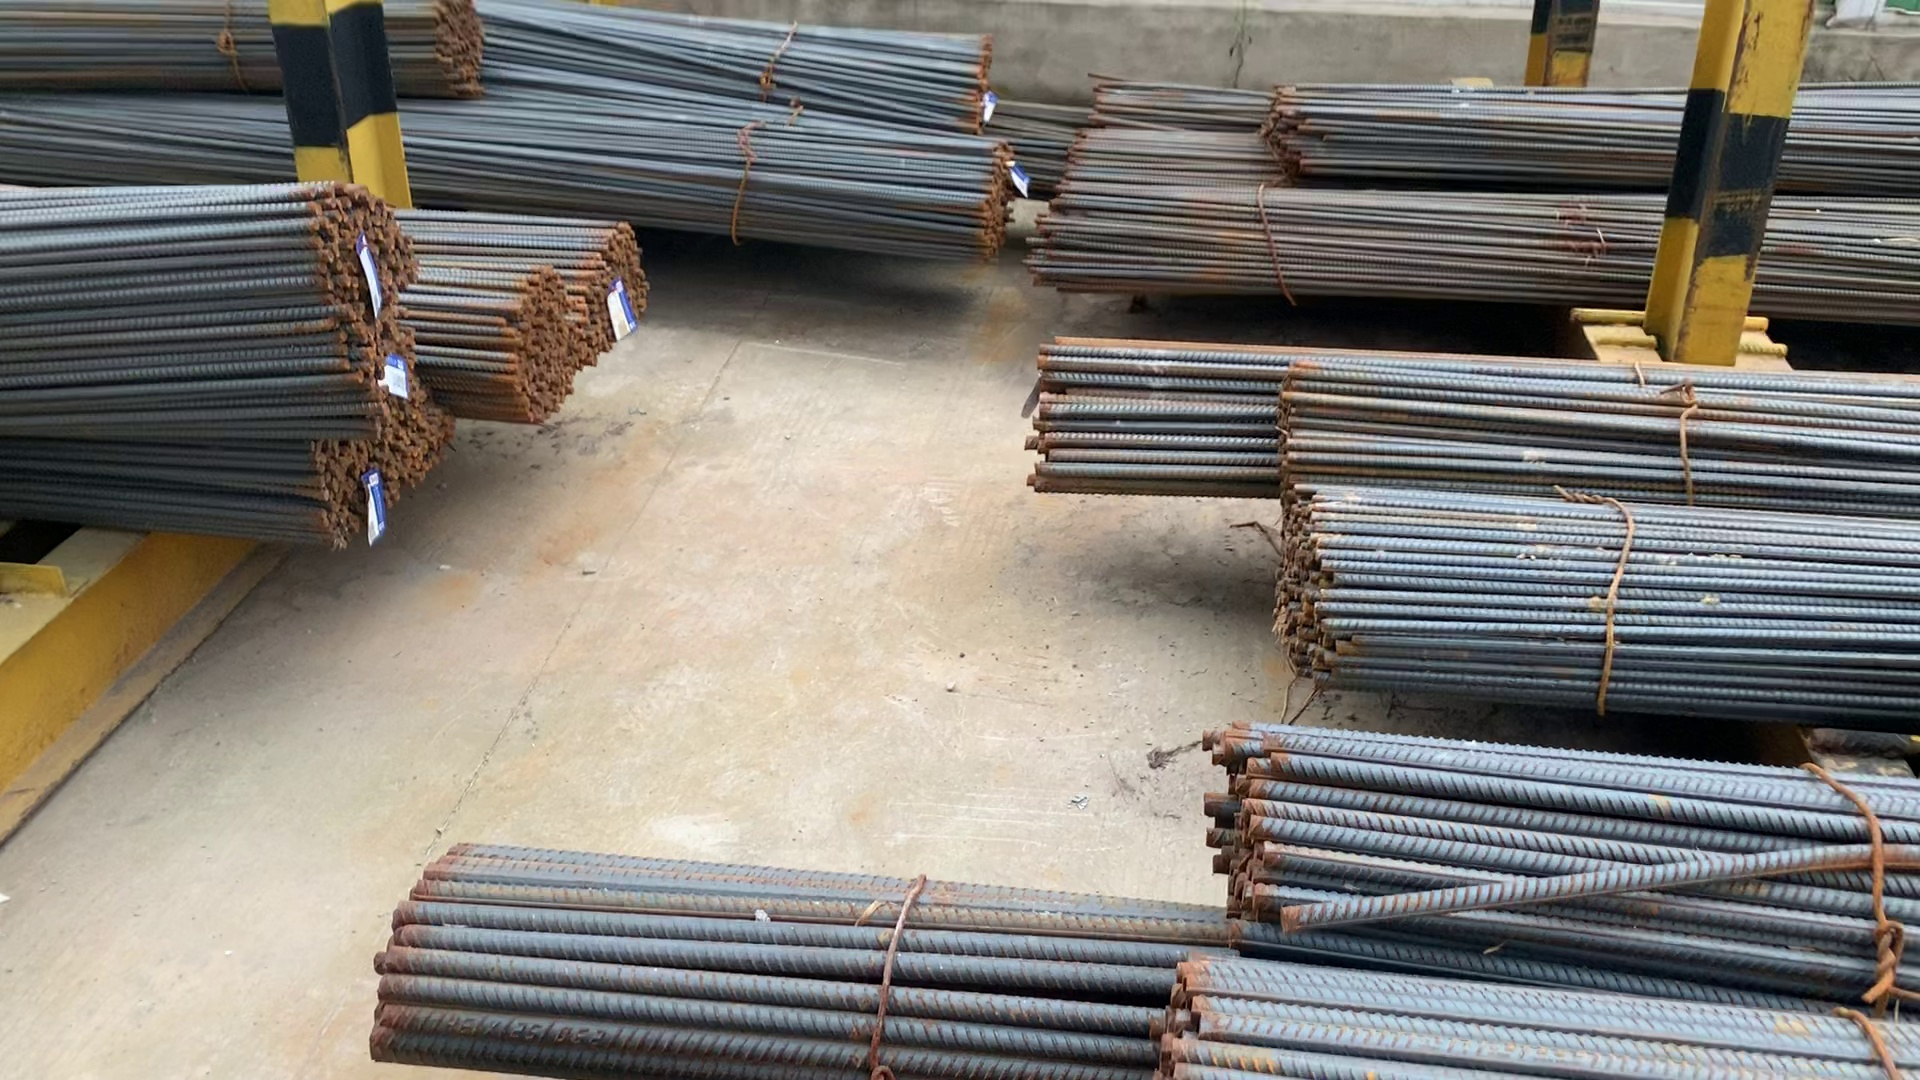rebar: (293, 196, 419, 396), (281, 415, 464, 543), (489, 280, 580, 426), (579, 235, 658, 334), (429, 7, 492, 88), (973, 148, 1019, 256), (960, 34, 1007, 131)
